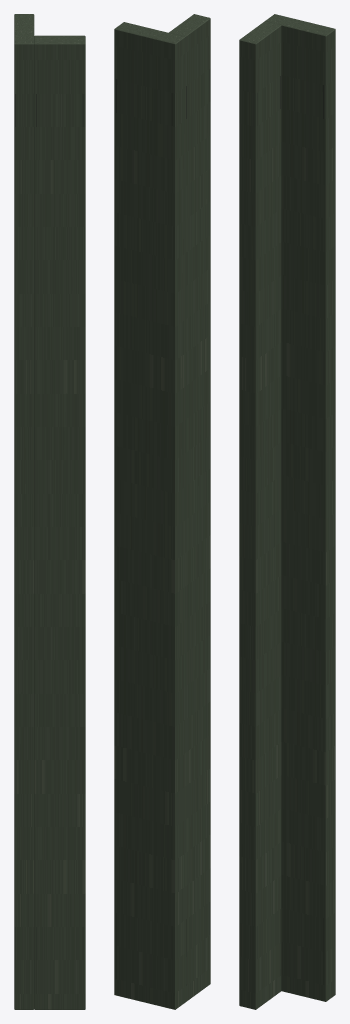
Rendered from house_01_corner_trim.glb.
3 renders of one model, left to right at view 1: azimuth 90°, elevation 25°; view 2: azimuth 150°, elevation 25°; view 3: azimuth 330°, elevation 25°, orthographic.
Parts seen in each view (by area): view 1: house_01_corner_trim; view 2: house_01_corner_trim; view 3: house_01_corner_trim.
Boxes of the visible parts, <box> form: house_01_corner_trim: <box>14,14,85,1009</box>; house_01_corner_trim: <box>114,14,210,1009</box>; house_01_corner_trim: <box>239,14,335,1009</box>.
Bounding box in the file's own units: 0.18 × 2.7 × 0.18.
Materials: 1 (1 with a texture image).
